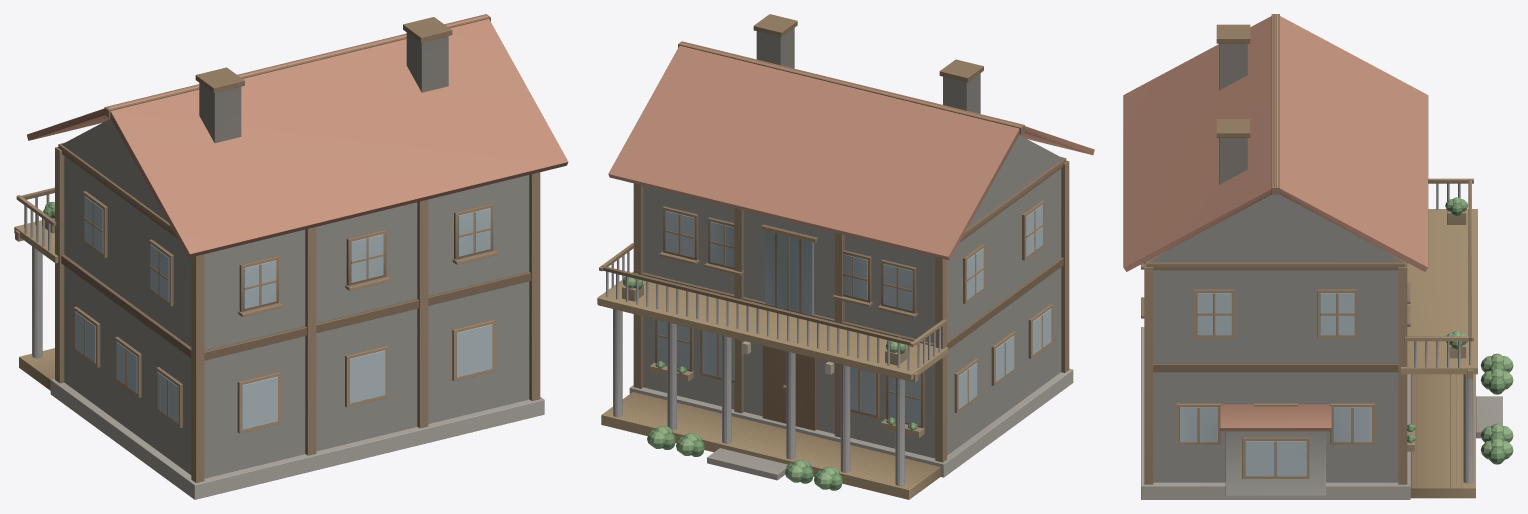
The model's file is home_manor2__red.glb.
3 views of the same model, side by side, from view 1: azimuth 30°, elevation 25°; view 2: azimuth 150°, elevation 25°; view 3: azimuth 270°, elevation 25° (orthographic). The views are drawn at different scales.
Bounding box in the file's own units: 11.05 × 9.84 × 10.13.
